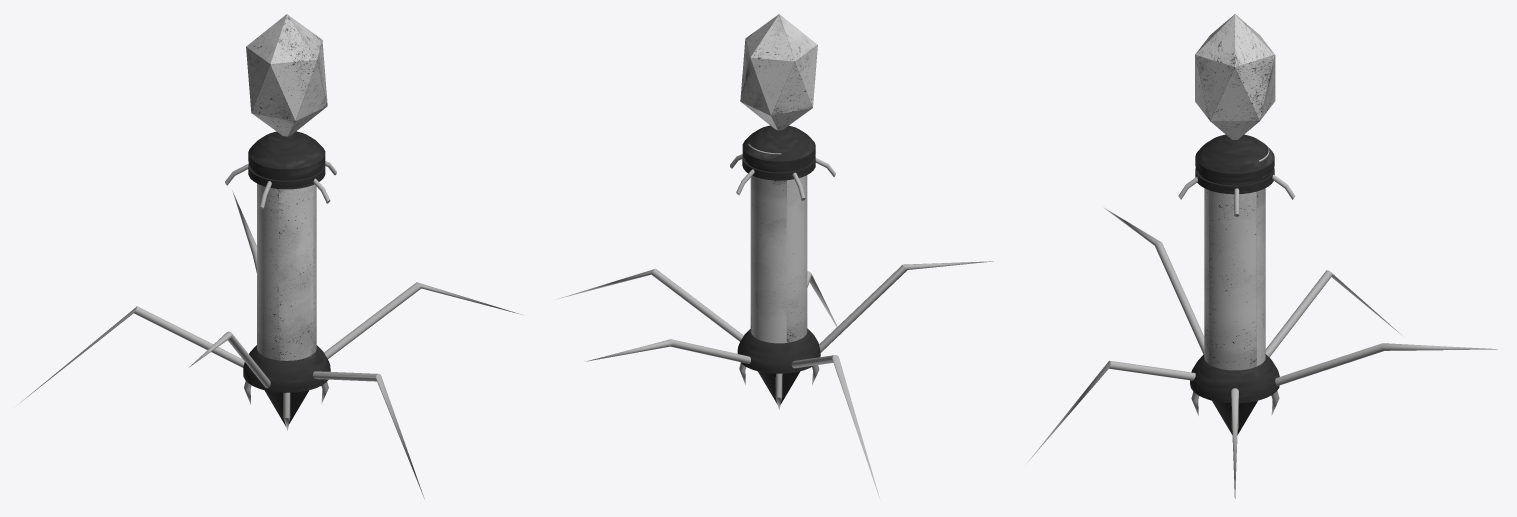
Rendered from Phage.fbx.
3 views of the same model, side by side, from view 1: azimuth 30°, elevation 25°; view 2: azimuth 150°, elevation 25°; view 3: azimuth 270°, elevation 25° (orthographic). The views are drawn at different scales.
Visible parts, largest first — view 1: Phage; view 2: Phage; view 3: Phage.
Part boxes in pixels (x1,y1,x2,y2): Phage: [18, 14, 522, 499]; Phage: [557, 14, 993, 498]; Phage: [1026, 14, 1497, 498].
Bounding box in the file's own units: 1076 × 1015 × 1014.
